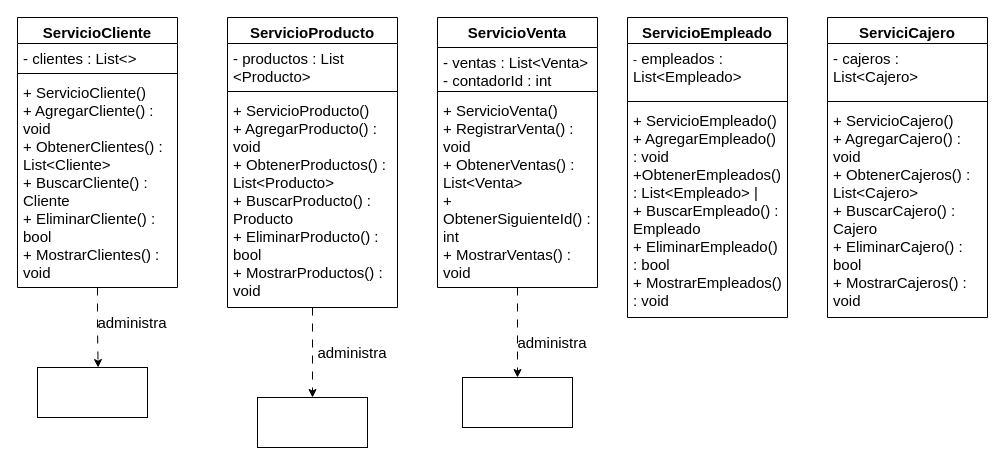
Image size: 1005x465. Some labels were removed from this diagram. The shapes that lost their labels are listed below. From the top down, each one's centre as x and y in pixels, then its label:
the point at 92,392: Cliente
the point at 517,402: Venta
the point at 312,422: Producto
